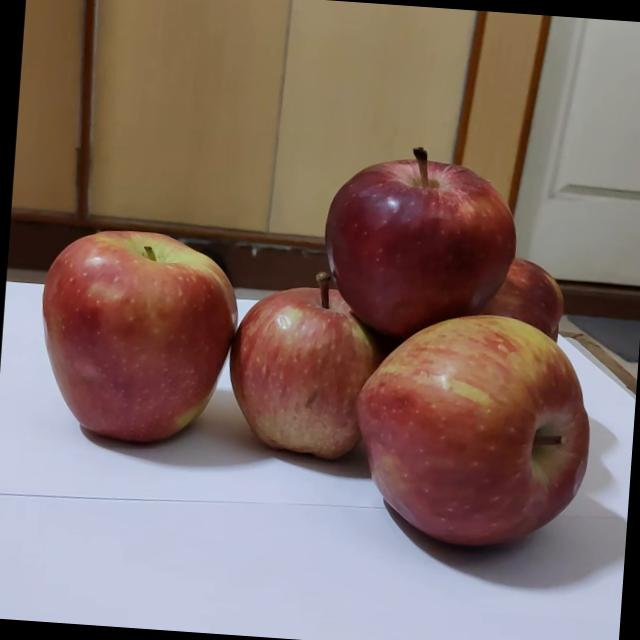apple: (338, 296, 604, 562), (0, 209, 248, 479), (294, 126, 525, 362), (205, 264, 398, 476), (390, 225, 592, 378)
